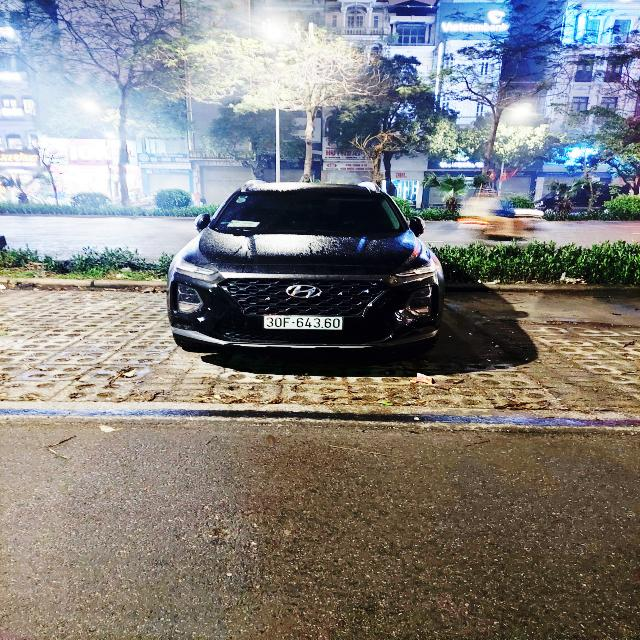license_plate: (263, 315, 345, 332)
